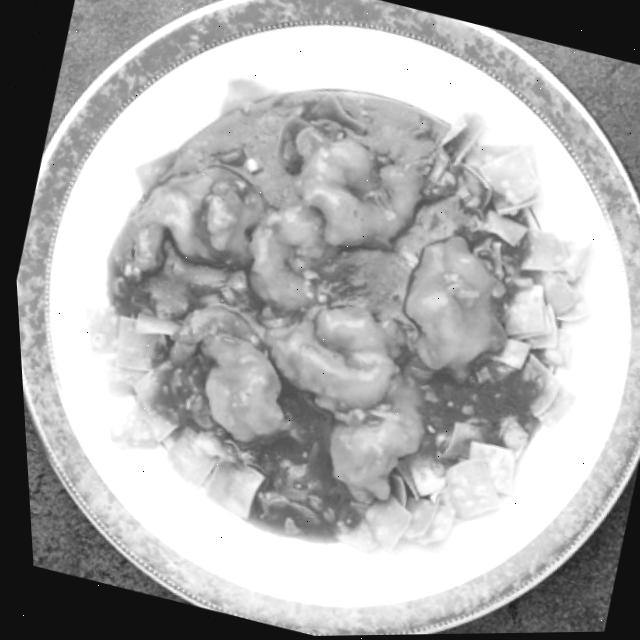熟制海鲜: (48, 37, 620, 607)
